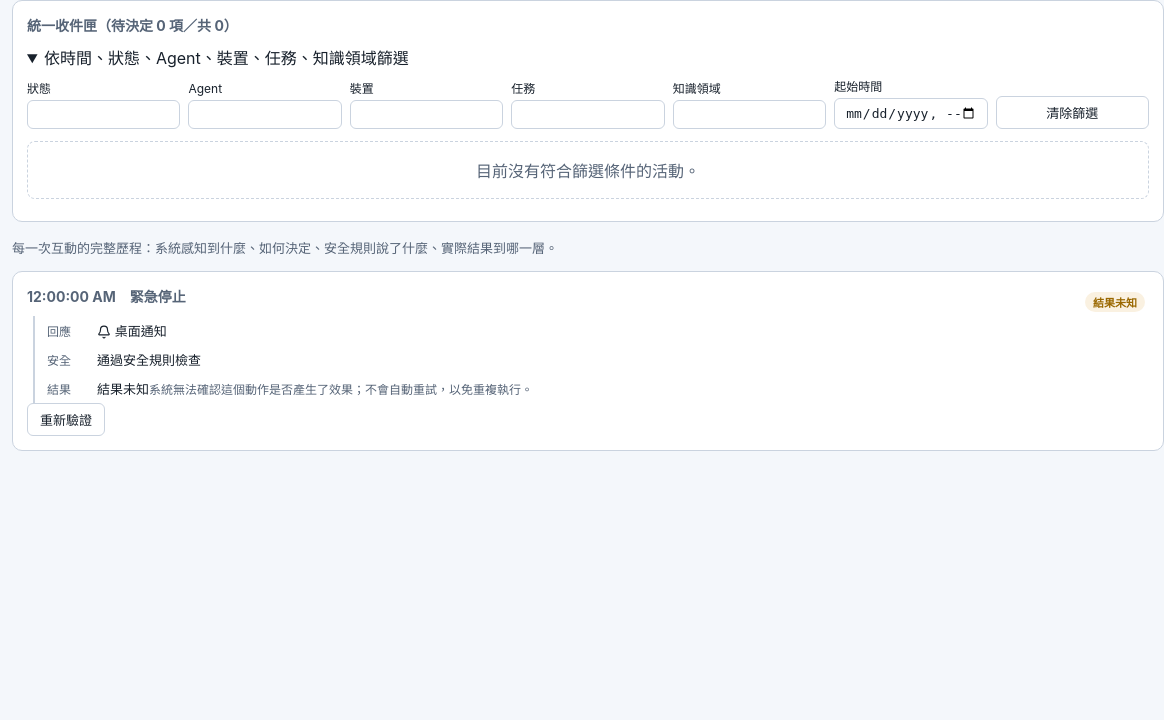
Test: ia-settings-017／019 活動紀錄的意圖與重新驗證 › 「重新驗證」失敗會顯示訊息，不是無聲的 floating promise
Click the button "重新驗證": (66, 420) [27, 403, 105, 436]
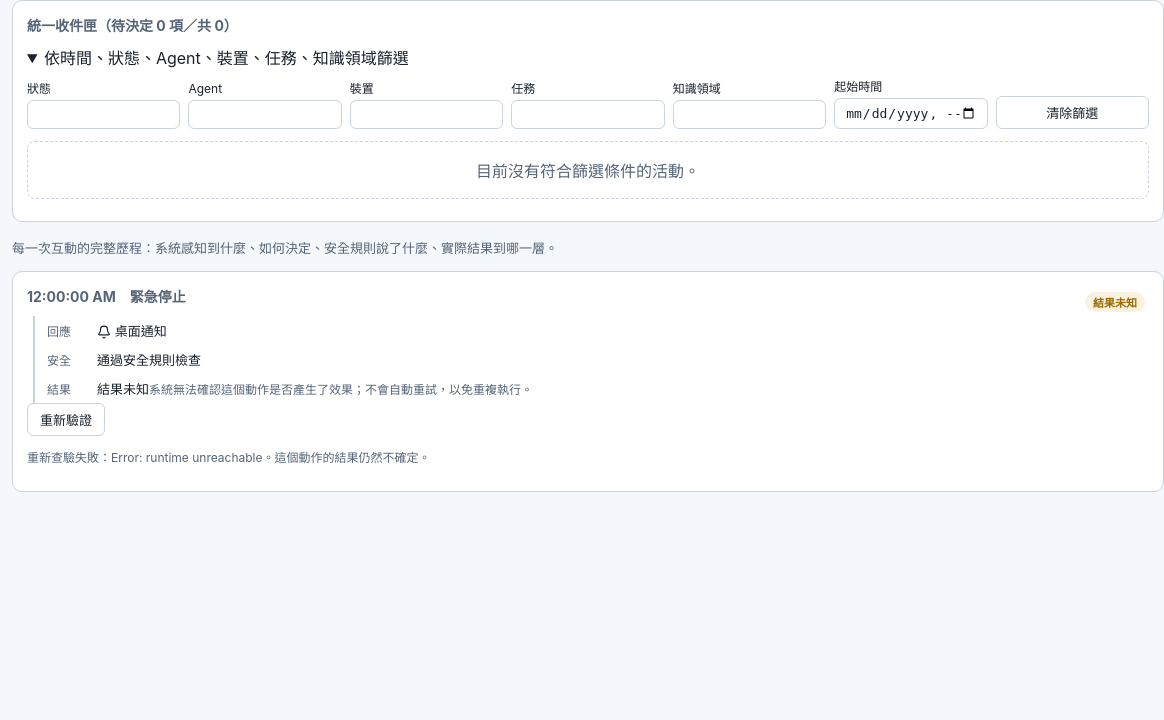
Check: the text "重新查驗失敗：Error: runtime unreachable。這個動作的結果仍然不確定。" is shown, box [27, 450, 430, 465]
